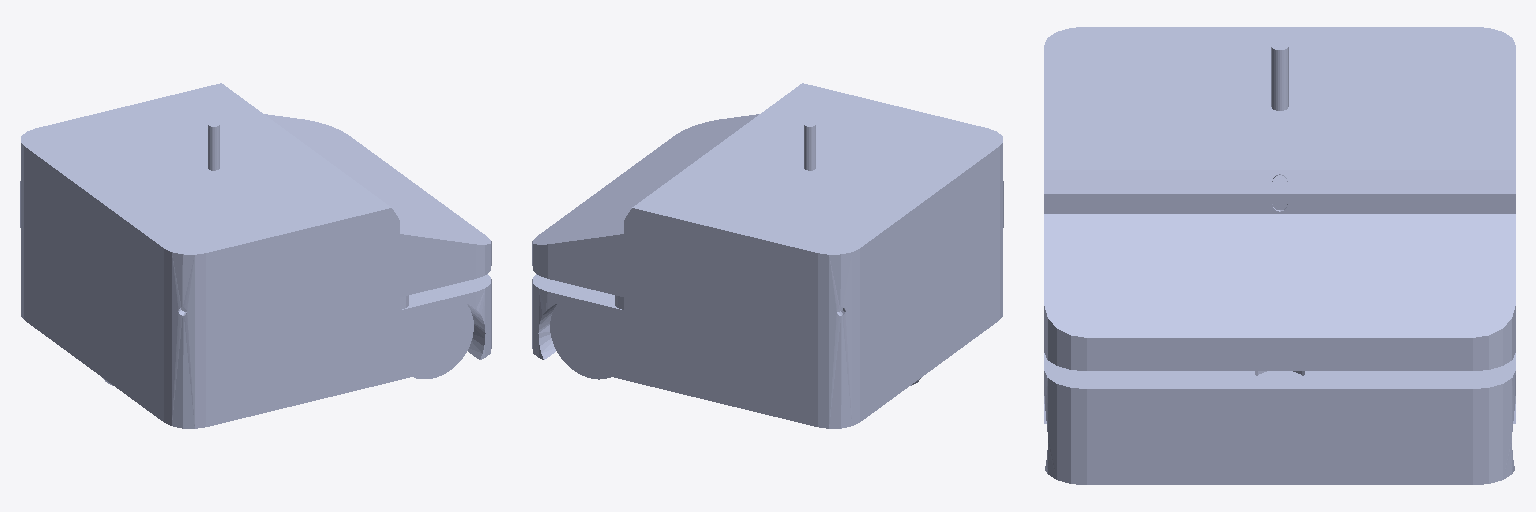
robot.urdf — urdfnew_pf:
<?xml version="1.0" encoding="utf-8"?>
<!-- This URDF was automatically created by SolidWorks to URDF Exporter! Originally created by [author] ([email redacted]) 
     Commit Version: 1.5.1-0-g916b5db  Build Version: 1.5.7152.31018
     For more information, please see http://wiki.ros.org/sw_urdf_exporter -->
<robot
  name="urdfnew_pf">
  <link
    name="base_link">
    <inertial>
      <origin
        xyz="-0.186508495381294 1.81772656870915E-07 0.0999706595808322"
        rpy="0 0 0" />
      <mass
        value="1.72484857008382" />
      <inertia
        ixx="0.0839794443820299"
        ixy="6.61177187979311E-08"
        ixz="0.00555845346259"
        iyy="0.0945379296317336"
        iyz="-1.76866442207592E-08"
        izz="0.134635937117221" />
    </inertial>
    <visual>
      <origin
        xyz="0 0 0"
        rpy="0 0 0" />
      <geometry>
        <mesh
          filename="package://urdfnew_pf/meshes/base_link.STL" />
      </geometry>
      <material
        name="">
        <color
          rgba="0.792156862745098 0.819607843137255 0.933333333333333 1" />
      </material>
    </visual>
    <collision>
      <origin
        xyz="0 0 0"
        rpy="0 0 0" />
      <geometry>
        <mesh
          filename="package://urdfnew_pf/meshes/base_link.STL" />
      </geometry>
    </collision>
  </link>
  <link
    name="IR">
    <inertial>
      <origin
        xyz="0.005 0 0"
        rpy="0 0 0" />
      <mass
        value="0.00176714586764426" />
      <inertia
        ixx="4.97009775274948E-08"
        ixy="6.89317177127515E-26"
        ixz="1.10290748340404E-24"
        iyy="3.95767043274496E-08"
        iyz="3.10192729707386E-25"
        izz="3.95767043274496E-08" />
    </inertial>
    <visual>
      <origin
        xyz="0 0 0"
        rpy="0 0 0" />
      <geometry>
        <mesh
          filename="package://urdfnew_pf/meshes/IR.STL" />
      </geometry>
      <material
        name="">
        <color
          rgba="0.792156862745098 0.819607843137255 0.933333333333333 1" />
      </material>
    </visual>
    <collision>
      <origin
        xyz="0 0 0"
        rpy="0 0 0" />
      <geometry>
        <mesh
          filename="package://urdfnew_pf/meshes/IR.STL" />
      </geometry>
    </collision>
  </link>
  <joint
    name="IR"
    type="fixed">
    <origin
      xyz="0.0965000000000001 0 -0.022"
      rpy="1.5707963267949 0 0" />
    <parent
      link="base_link" />
    <child
      link="IR" />
    <axis
      xyz="0 0 0" />
  </joint>
  <link
    name="laser_link">
    <inertial>
      <origin
        xyz="0 5.55111512312578E-17 -0.034075"
        rpy="0 0 0" />
      <mass
        value="0.0245515465878043" />
      <inertia
        ixx="1.31093443347079E-05"
        ixy="0"
        ixz="-2.04418086133976E-21"
        iyy="1.31093443347079E-05"
        iyz="2.43581130536868E-38"
        izz="1.22757732939021E-06" />
    </inertial>
    <visual>
      <origin
        xyz="0 0 0"
        rpy="0 0 0" />
      <geometry>
        <mesh
          filename="package://urdfnew_pf/meshes/laser_link.STL" />
      </geometry>
      <material
        name="">
        <color
          rgba="0.792156862745098 0.819607843137255 0.933333333333333 1" />
      </material>
    </visual>
    <collision>
      <origin
        xyz="0 0 0"
        rpy="0 0 0" />
      <geometry>
        <mesh
          filename="package://urdfnew_pf/meshes/laser_link.STL" />
      </geometry>
    </collision>
  </link>
  <joint
    name="laser_link"
    type="fixed">
    <origin
      xyz="-0.2735 0 0.34115"
      rpy="0 0 0" />
    <parent
      link="base_link" />
    <child
      link="laser_link" />
    <axis
      xyz="0 0 0" />
  </joint>
  <link
    name="camera_link">
    <inertial>
      <origin
        xyz="0 0 0"
        rpy="0 0 0" />
      <mass
        value="0.00254469004940768" />
      <inertia
        ixx="1.03059947001011E-07"
        ixy="5.19246933075386E-24"
        ixz="-1.21036978592635E-23"
        iyy="7.27357239122352E-08"
        iyz="-6.58783796960209E-40"
        izz="7.27357239122352E-08" />
    </inertial>
    <visual>
      <origin
        xyz="0 0 0"
        rpy="0 0 0" />
      <geometry>
        <mesh
          filename="package://urdfnew_pf/meshes/camera_link.STL" />
      </geometry>
      <material
        name="">
        <color
          rgba="0.792156862745098 0.819607843137255 0.933333333333333 1" />
      </material>
    </visual>
    <collision>
      <origin
        xyz="0 0 0"
        rpy="0 0 0" />
      <geometry>
        <mesh
          filename="package://urdfnew_pf/meshes/camera_link.STL" />
      </geometry>
    </collision>
  </link>
  <joint
    name="camera_link"
    type="fixed">
    <origin
      xyz="-0.095 0 0.22965902599155"
      rpy="0 0 0" />
    <parent
      link="base_link" />
    <child
      link="camera_link" />
    <axis
      xyz="0 0 0" />
  </joint>
  <link
    name="IMU_link">
    <inertial>
      <origin
        xyz="0 0 0"
        rpy="0 0 0" />
      <mass
        value="0.00299999999999996" />
      <inertia
        ixx="1.06249999999999E-07"
        ixy="-3.40867840322235E-22"
        ixz="-6.82005583881383E-22"
        iyy="3.24999999999997E-07"
        iyz="-2.21591184009676E-22"
        izz="2.31249999999998E-07" />
    </inertial>
    <visual>
      <origin
        xyz="0 0 0"
        rpy="0 0 0" />
      <geometry>
        <mesh
          filename="package://urdfnew_pf/meshes/IMU_link.STL" />
      </geometry>
      <material
        name="">
        <color
          rgba="0.792156862745098 0.819607843137255 0.933333333333333 1" />
      </material>
    </visual>
    <collision>
      <origin
        xyz="0 0 0"
        rpy="0 0 0" />
      <geometry>
        <mesh
          filename="package://urdfnew_pf/meshes/IMU_link.STL" />
      </geometry>
    </collision>
  </link>
  <joint
    name="IMU_link"
    type="fixed">
    <origin
      xyz="-0.11 0 0.22965902599155"
      rpy="-1.5707963267949 0 -1.5707963267949" />
    <parent
      link="base_link" />
    <child
      link="IMU_link" />
    <axis
      xyz="0 0 0" />
  </joint>
  <link
    name="w_r_link">
    <inertial>
      <origin
        xyz="0 0 5.55111512312578E-17"
        rpy="0 0 0" />
      <mass
        value="0.646775387557798" />
      <inertia
        ixx="0.00098172742526623"
        ixy="-2.03641789459831E-19"
        ixz="3.30681662608079E-20"
        iyy="0.00181905577750631"
        iyz="-9.09814762263548E-20"
        izz="0.00098172742526623" />
    </inertial>
    <visual>
      <origin
        xyz="0 0 0"
        rpy="0 0 0" />
      <geometry>
        <mesh
          filename="package://urdfnew_pf/meshes/w_r_link.STL" />
      </geometry>
      <material
        name="">
        <color
          rgba="0.792156862745098 0.819607843137255 0.933333333333333 1" />
      </material>
    </visual>
    <collision>
      <origin
        xyz="0 0 0"
        rpy="0 0 0" />
      <geometry>
        <mesh
          filename="package://urdfnew_pf/meshes/w_r_link.STL" />
      </geometry>
    </collision>
  </link>
  <joint
    name="w_r_joint"
    type="continuous">
    <origin
      xyz="0 -0.2173 0"
      rpy="0 0 0" />
    <parent
      link="base_link" />
    <child
      link="w_r_link" />
    <axis
      xyz="0 1 0" />
  </joint>
  <link
    name="w_l_link">
    <inertial>
      <origin
        xyz="0 0 5.55111512312578E-17"
        rpy="0 0 0" />
      <mass
        value="0.646775387557799" />
      <inertia
        ixx="0.000981727425266231"
        ixy="1.3350021162692E-19"
        ixz="1.40539706608434E-19"
        iyy="0.00181905577750631"
        iyz="3.91109767734517E-21"
        izz="0.000981727425266231" />
    </inertial>
    <visual>
      <origin
        xyz="0 0 0"
        rpy="0 0 0" />
      <geometry>
        <mesh
          filename="package://urdfnew_pf/meshes/w_l_link.STL" />
      </geometry>
      <material
        name="">
        <color
          rgba="0.792156862745098 0.819607843137255 0.933333333333333 1" />
      </material>
    </visual>
    <collision>
      <origin
        xyz="0 0 0"
        rpy="0 0 0" />
      <geometry>
        <mesh
          filename="package://urdfnew_pf/meshes/w_l_link.STL" />
      </geometry>
    </collision>
  </link>
  <joint
    name="w_l_joint"
    type="continuous">
    <origin
      xyz="0 0.2173 0"
      rpy="0 0 0" />
    <parent
      link="base_link" />
    <child
      link="w_l_link" />
    <axis
      xyz="0 1 0" />
  </joint>
  <link
    name="castor_link">
    <inertial>
      <origin
        xyz="0 0 5.55111512312578E-17"
        rpy="0 0 0" />
      <mass
        value="0.0654498469497874" />
      <inertia
        ixx="1.63624617374469E-05"
        ixy="3.39061905195349E-22"
        ixz="-3.42210418674171E-22"
        iyy="1.63624617374469E-05"
        iyz="7.92122337092385E-23"
        izz="1.63624617374468E-05" />
    </inertial>
    <visual>
      <origin
        xyz="0 0 0"
        rpy="0 0 0" />
      <geometry>
        <mesh
          filename="package://urdfnew_pf/meshes/castor_link.STL" />
      </geometry>
      <material
        name="">
        <color
          rgba="0.792156862745098 0.819607843137255 0.933333333333333 1" />
      </material>
    </visual>
    <collision>
      <origin
        xyz="0 0 0"
        rpy="0 0 0" />
      <geometry>
        <mesh
          filename="package://urdfnew_pf/meshes/castor_link.STL" />
      </geometry>
    </collision>
  </link>
  <joint
    name="castor_joint"
    type="continuous">
    <origin
      xyz="-0.455 0 -0.0501999999999999"
      rpy="0 0 0" />
    <parent
      link="base_link" />
    <child
      link="castor_link" />
    <axis
      xyz="1 0 0" />
  </joint>
  <link
    name="ultrasonic_link">
    <inertial>
      <origin
        xyz="0.00499999999999989 0 0"
        rpy="0 0 0" />
      <mass
        value="0.00176714586764422" />
      <inertia
        ixx="4.97009775274937E-08"
        ixy="-5.51453741702006E-25"
        ixz="-7.10215052999282E-41"
        iyy="3.95767043274481E-08"
        iyz="1.1546062716886E-24"
        izz="3.95767043274481E-08" />
    </inertial>
    <visual>
      <origin
        xyz="0 0 0"
        rpy="0 0 0" />
      <geometry>
        <mesh
          filename="package://urdfnew_pf/meshes/ultrasonic_link.STL" />
      </geometry>
      <material
        name="">
        <color
          rgba="0.792156862745098 0.819607843137255 0.933333333333333 1" />
      </material>
    </visual>
    <collision>
      <origin
        xyz="0 0 0"
        rpy="0 0 0" />
      <geometry>
        <mesh
          filename="package://urdfnew_pf/meshes/ultrasonic_link.STL" />
      </geometry>
    </collision>
  </link>
  <joint
    name="ultrasonic_link"
    type="continuous">
    <origin
      xyz="-0.4865 0 -0.0166000000000001"
      rpy="1.5707963267949 0 3.14159265358979" />
    <parent
      link="base_link" />
    <child
      link="ultrasonic_link" />
    <axis
      xyz="1 0 0" />
  </joint>
<gazebo reference="laser_link">
<sensor type="ray" name="head_hokuyo_sensor">
<pose>0 0 0 0 0 0</pose>
<visualize>false</visualize>
<update_rate>40</update_rate>
<ray>
<scan>
<horizontal>
<samples>720</samples>
<resolution>1</resolution>
<min_angle>0</min_angle>
<max_angle>6.28</max_angle>
</horizontal>
</scan>
<range>
<min>0.05</min>
<max>6.0</max>
<resolution>0.05</resolution>
</range>
<noise>
<type>gaussian</type>
<!--  Noise parameters based on published spec for Hokuyo laser
               achieving "+-30mm" accuracy at range < 10m.  A mean of 0.0m and
               stddev of 0.01m will put 99.7% of samples within 0.03m of the true
               reading.  -->
<mean>0.0</mean>
<stddev>0.0</stddev>
</noise>
</ray>
<plugin name="gazebo_ros_head_hokuyo_controller" filename="libgazebo_ros_laser.so">
<topicName>/scan</topicName>
<frameName>laser_link</frameName>
</plugin>
</sensor>
</gazebo>
<!--       IMU_LINK                -->
<gazebo>
<plugin name="imu_plugin" filename="libgazebo_ros_imu.so">
<alwaysOn>true</alwaysOn>
<bodyName>IMU_link</bodyName>
<frameName>IMU_link</frameName>
<topicName>imu_data</topicName>
<gaussianNoise>0.0</gaussianNoise>
<updateRate>200</updateRate>
<imu>
<noise>
<type>gaussian</type>
<rate>
<mean>0.0</mean>
<stddev>2e-4</stddev>
<bias_mean>0.0000075</bias_mean>
<bias_stddev>0.0000008</bias_stddev>
</rate>
<accel>
<mean>0.0</mean>
<stddev>1.7e-2</stddev>
<bias_mean>0.1</bias_mean>
<bias_stddev>0.001</bias_stddev>
</accel>
</noise>
</imu>
</plugin>
</gazebo>

<!--       CAMERA_LINK                -->
 <gazebo reference="camera_link">
  <sensor name="camera_link" type="depth">
    <update_rate>20</update_rate>
    <camera>
      <horizontal_fov>1.047198</horizontal_fov>
      <image>
        <width>640</width>
        <height>480</height>
        <format>R8G8B8</format>
      </image>
      <clip>
        <near>0.05</near>
        <far>3</far>
      </clip>
    </camera>
    <plugin name="camera_link_controller" filename="libgazebo_ros_openni_kinect.so">
      <baseline>0.2</baseline>
      <alwaysOn>true</alwaysOn>
      <updateRate>1.0</updateRate>
      <cameraName>camera</cameraName>
      <imageTopicName>/camera/color/image_raw</imageTopicName>
      <cameraInfoTopicName>/camera/color/camera_info</cameraInfoTopicName>
      <depthImageTopicName>/camera/depth/image_raw</depthImageTopicName>
      <depthImageInfoTopicName>/camera_name/depth/camera_info</depthImageInfoTopicName>
      <pointCloudTopicName>/camera/depth/points</pointCloudTopicName>
      <frameName>camera_link</frameName>
      <pointCloudCutoff>0.5</pointCloudCutoff>
      <pointCloudCutoffMax>3.0</pointCloudCutoffMax>
      <distortionK1>0.00000001</distortionK1>
      <distortionK2>0.00000001</distortionK2>
      <distortionK3>0.00000001</distortionK3>
      <distortionT1>0.00000001</distortionT1>
      <distortionT2>0.00000001</distortionT2>
      <CxPrime>0</CxPrime>
      <Cx>0</Cx>
      <Cy>0</Cy>
      <focalLength>0</focalLength>
      <hackBaseline>0</hackBaseline>
    </plugin>
  </sensor>
</gazebo>


<!--     LEFT AND RIGHT WHEEL CONTROLLER  -->
<transmission name="transmission_joint_right">
<type>transmission_interface/SimpleTransmission</type>
<joint name="w_r_joint">
<hardwareInterface>hardware_interface/VelocityJointInterface</hardwareInterface>
</joint>
<actuator name="actuator_joint_right">
<mechanicalReduction>7</mechanicalReduction>
<hardwareInterface>VelocityJointInterface</hardwareInterface>
</actuator>
</transmission>
<transmission name="transmission_joint_left">
<type>transmission_interface/SimpleTransmission</type>
<joint name="w_r_joint">
<hardwareInterface>hardware_interface/VelocityJointInterface</hardwareInterface>
</joint>
<actuator name="actuator_joint_left">
<mechanicalReduction>7</mechanicalReduction>
<hardwareInterface>VelocityJointInterface</hardwareInterface>
</actuator>
</transmission>
<!--    WHEEL PLUGIN      -->
<gazebo>
<plugin name="differential_drive_controller" filename="libgazebo_ros_diff_drive.so">
<alwaysOn>true</alwaysOn>
<legacyMode>false</legacyMode>
<updateRate>40</updateRate>
<leftJoint>w_l_joint</leftJoint>
<rightJoint>w_r_joint</rightJoint>
<wheelSeparation>0.440</wheelSeparation>
<wheelDiameter>0.150</wheelDiameter>
<wheelTorque>80</wheelTorque>
<commandTopic>/cmd_vel</commandTopic>
<odometryTopic>/odom</odometryTopic>
<odometryFrame>odom</odometryFrame>
<odometrySource>world</odometrySource>
<wheelAcceleration>0.0</wheelAcceleration>
<publishTf>true</publishTf>
<publishWheelJointState>true</publishWheelJointState>
<robotBaseFrame>base_link</robotBaseFrame>
<publishWheelTF>false</publishWheelTF>
<rosDebugLevel>na</rosDebugLevel>
<!--<odometrySource>encoder</odometrySource>-->
</plugin>
</gazebo>





  
</robot>

--- Facts derived from the render (not from the file) ---
The picture shows the robot from 3 angles, left to right: view 1: azimuth 30°, elevation 25°; view 2: azimuth 150°, elevation 25°; view 3: azimuth 270°, elevation 25°; orthographic projection.
Model urdfnew_pf with 9 links and 8 joints (4 continuous, 4 fixed), rooted at base_link, posed all joints at 0.
Visible links, largest first — view 1: base_link, w_r_link, laser_link; view 2: base_link, w_l_link, laser_link; view 3: base_link, laser_link.
Link boxes in pixels (x1=…): base_link: x1=20, y1=83, x2=491, y2=428; w_r_link: x1=405, y1=302, x2=473, y2=378; laser_link: x1=208, y1=122, x2=219, y2=170; base_link: x1=532, y1=83, x2=1003, y2=428; w_l_link: x1=550, y1=302, x2=618, y2=379; laser_link: x1=804, y1=122, x2=815, y2=170; base_link: x1=1044, y1=27, x2=1515, y2=484; laser_link: x1=1271, y1=43, x2=1288, y2=110.
Size in the robot's own frame: 0.603 by 0.55 by 0.4213 metres.
9 mesh visuals loaded from 9 distinct referenced files (9 binary STL).
